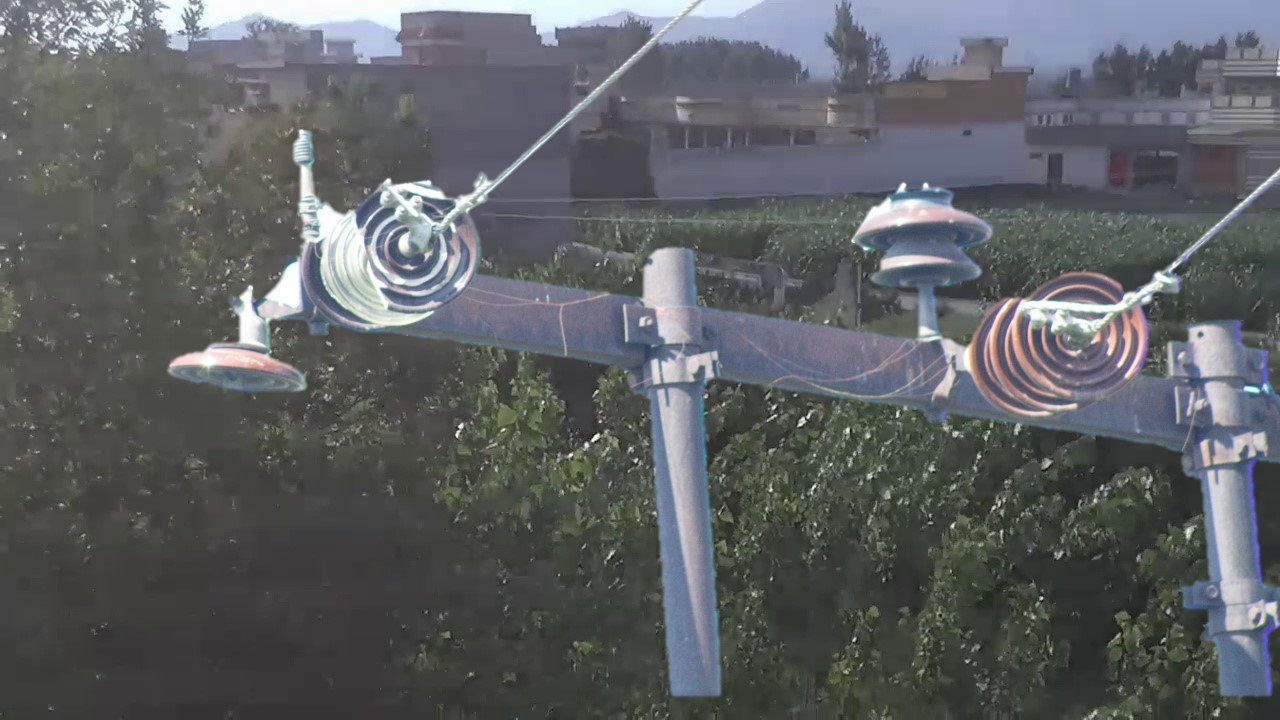defect_disc: (351, 177, 486, 314)
insulator_disc: (1009, 264, 1153, 405), (162, 326, 314, 407)
